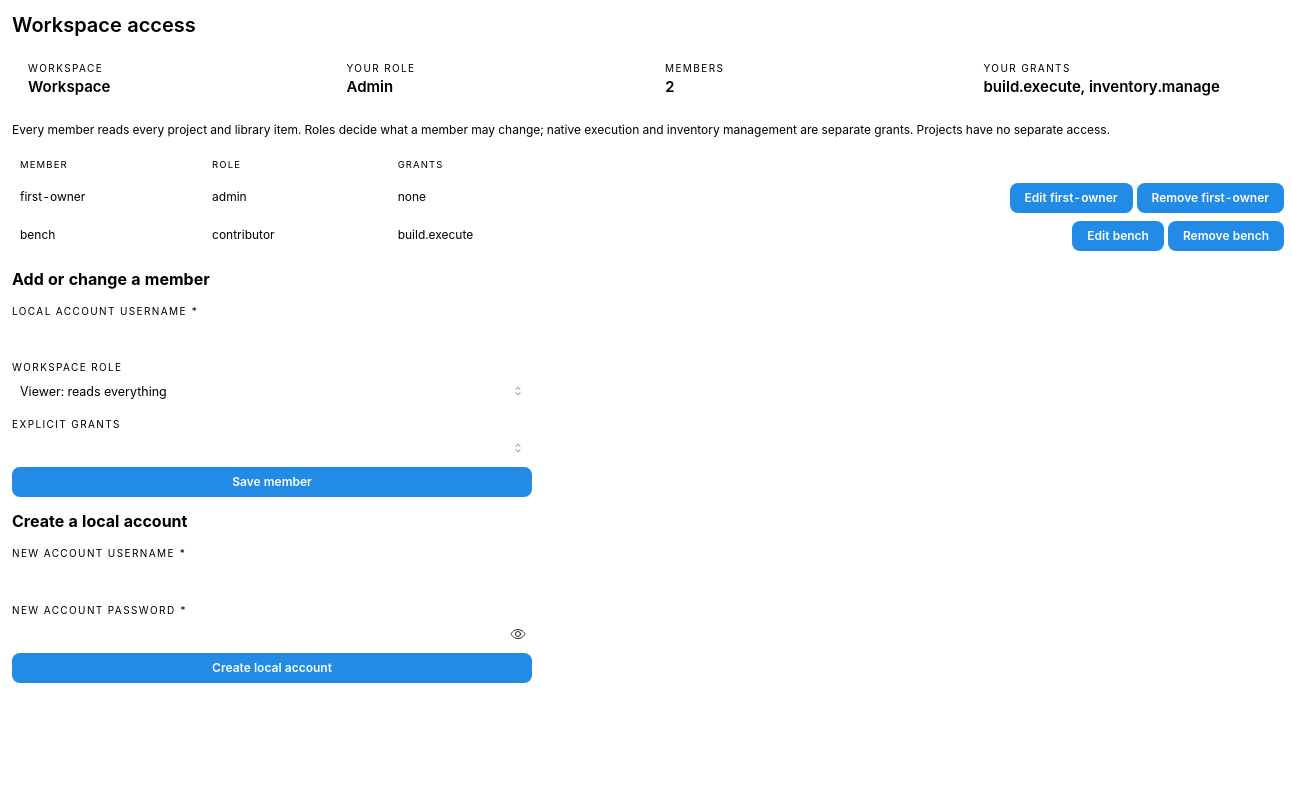
removing a member uses workspace.remove_member
Step 1. Click the button "Remove bench" → (1226, 236), box [1168, 221, 1284, 251]
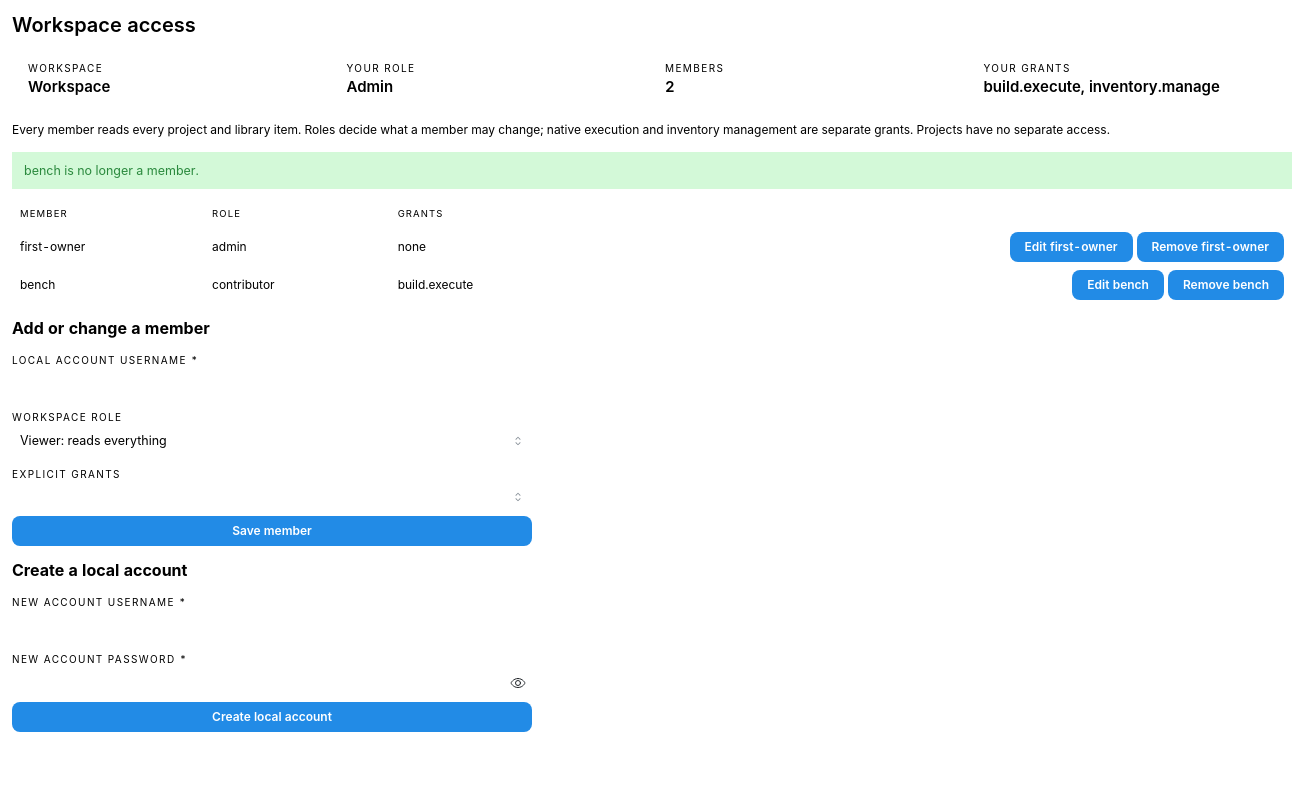
Expected: the text "bench is no longer a member." is shown, [24, 163, 199, 178]
